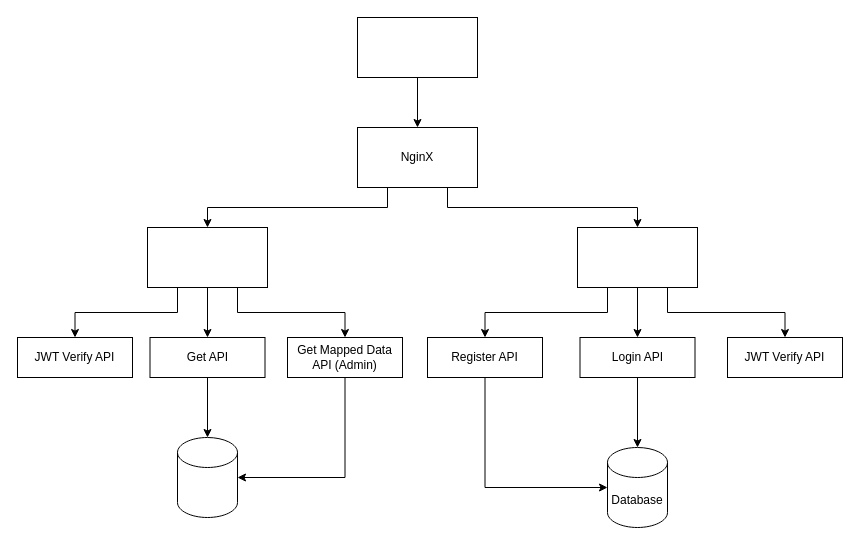
Image size: 860x545. Some labels were removed from this diagram. Here are the shapes that lost their labels. From the top down, the box of each, then its label:
(356, 16, 478, 78): Client
(146, 226, 268, 288): Fetcher
(576, 226, 698, 288): Authenticator
(176, 436, 238, 518): Redis
